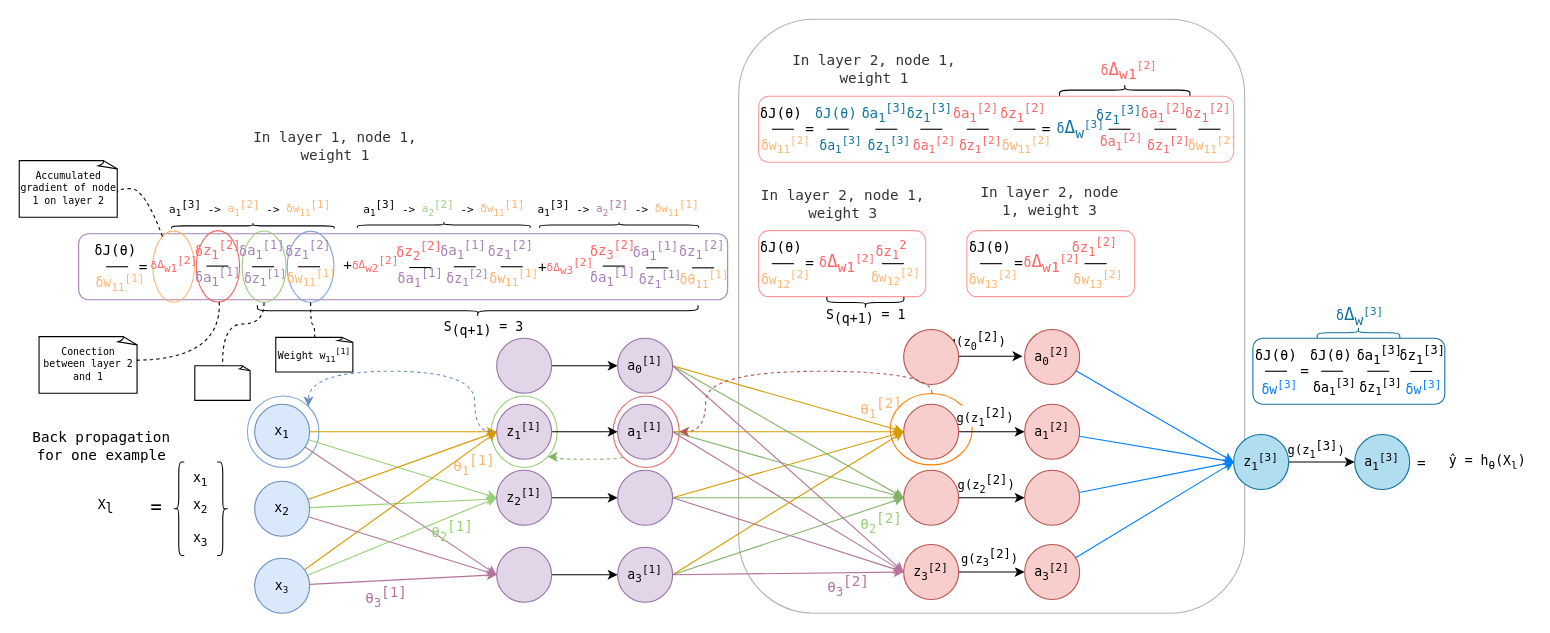
The diagram is 1550 pixels wide and 633 high, and some of its shapes have lost their labels. Each missing label, with the centre of its shape:
"a 2 [1]" belongs at point 645,497.
"a 2 [2]" belongs at point 1052,497.
"Node a 1 [1]" belongs at point 222,382.
"z 0 [1] = 1" belongs at point 524,365.
"z 0 [2] = 1" belongs at point 931,356.
"z 1 [2]" belongs at point 931,431.
"z 2 [2]" belongs at point 931,497.
"z 3 [1]" belongs at point 524,574.
